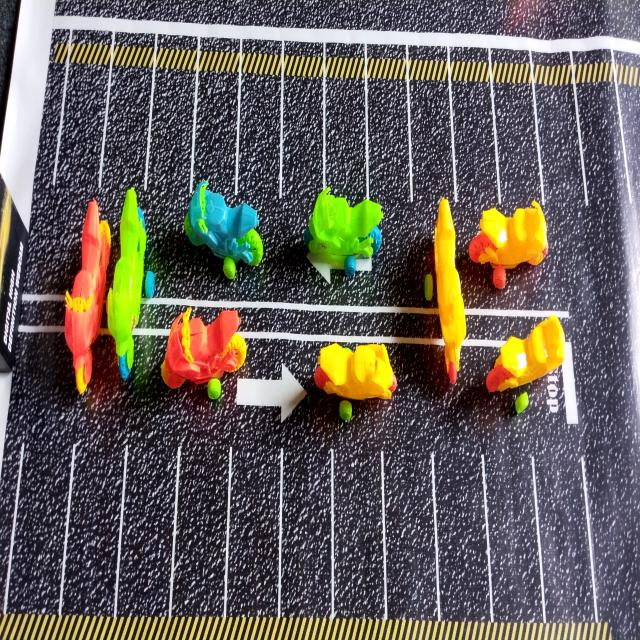bikes: (64, 203, 111, 396), (185, 179, 266, 278), (162, 307, 247, 401), (424, 194, 466, 383), (309, 182, 389, 279), (107, 188, 147, 380), (469, 201, 549, 289), (314, 343, 396, 420), (485, 314, 565, 390)
others: (0, 158, 31, 364)
slots: (122, 421, 183, 610), (67, 431, 129, 609), (67, 439, 129, 610), (122, 437, 182, 610), (12, 444, 75, 606), (178, 431, 232, 609), (537, 457, 595, 621), (437, 431, 488, 617), (488, 451, 541, 618), (339, 441, 389, 614), (101, 55, 152, 219), (59, 56, 111, 216), (287, 441, 335, 614), (390, 450, 439, 615), (233, 446, 282, 610), (147, 59, 196, 221), (541, 79, 592, 226), (578, 80, 627, 212), (458, 76, 505, 210), (373, 71, 416, 217), (287, 69, 328, 220), (500, 79, 546, 208), (193, 62, 238, 191), (416, 75, 459, 201), (331, 71, 372, 198), (239, 68, 280, 190)
